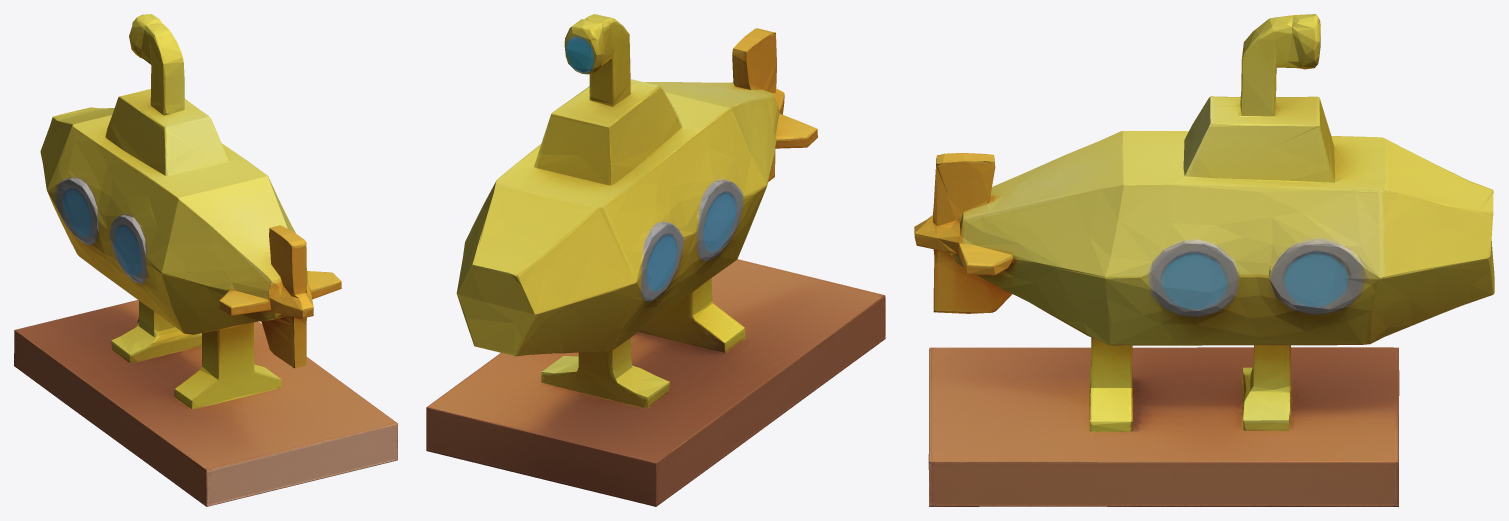
File: model-pick-3.glb
3 views of the same model, side by side, from view 1: azimuth 30°, elevation 25°; view 2: azimuth 150°, elevation 25°; view 3: azimuth 270°, elevation 25° (orthographic). The views are drawn at different scales.
Visible parts, largest first — view 1: geometry_0; view 2: geometry_0; view 3: geometry_0.
Boxes of the visible parts, bbox=[...] form: geometry_0: bbox=[14, 14, 397, 506]; geometry_0: bbox=[426, 14, 885, 506]; geometry_0: bbox=[914, 14, 1494, 506].
Size of the model in its own units: 0.2764 by 0.4864 by 0.5903.
Materials: 1 (1 with a texture image).
